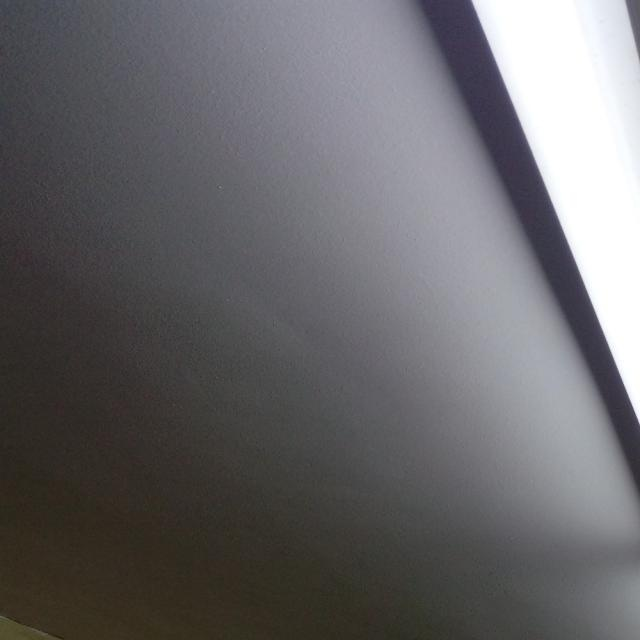fluorescent tube: (463, 0, 640, 617)
